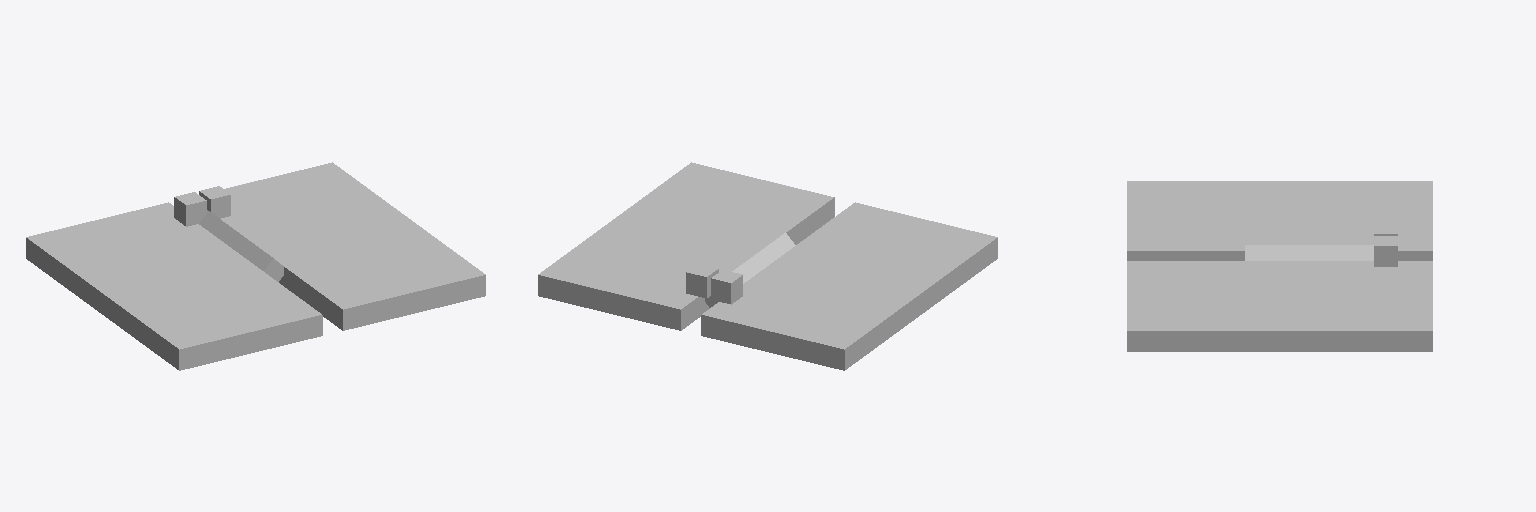
The model's file is butterflyGE.obj.
The picture shows the model from 3 angles: view 1: azimuth 30°, elevation 25°; view 2: azimuth 150°, elevation 25°; view 3: azimuth 270°, elevation 25°; orthographic projection.
Parts seen in each view (by area): view 1: Butterfly2; view 2: Butterfly2; view 3: Butterfly2.
Boxes of the visible parts, <box> form: Butterfly2: <box>26,162,485,370</box>; Butterfly2: <box>538,162,997,370</box>; Butterfly2: <box>1127,181,1432,351</box>.
Size of the model in its own units: 0.9375 by 0.125 by 0.8125.